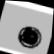correct: (14, 23, 44, 52)
